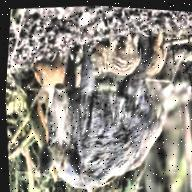boar: (21, 17, 191, 192)
